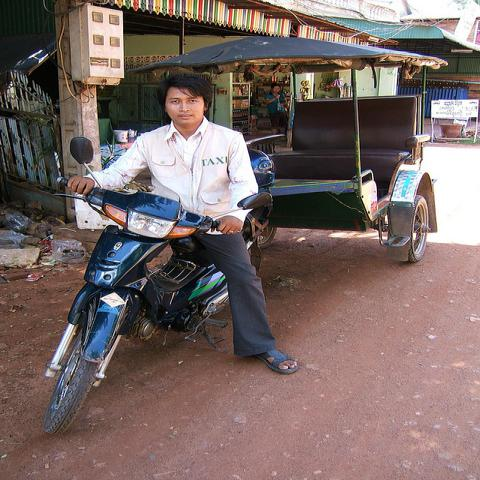motorcycle: (35, 132, 273, 446)
